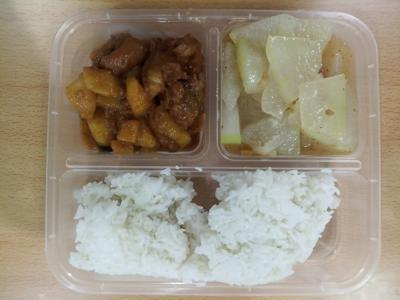dg: (222, 14, 361, 163)
jrtd: (58, 15, 210, 158)
rice: (65, 165, 368, 293)
